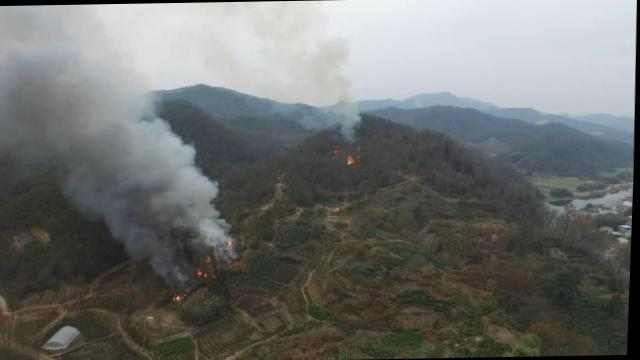fire: (142, 202, 262, 308), (319, 128, 375, 174)
